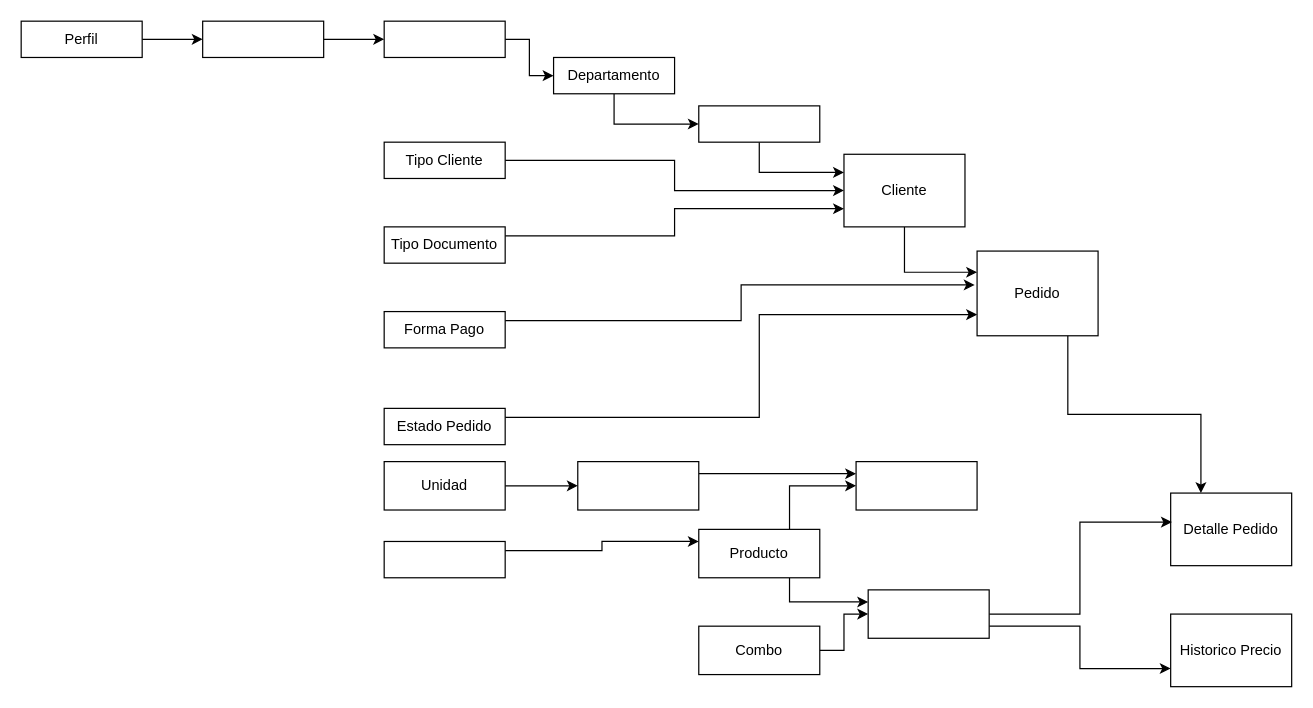
This 1313x708 diagram has some shape labels left out. The shapes that lost their labels are listed below. From the top down, each one's centre as x and y in pixels, then its label:
At (262,38): "Usuario".
At (444,38): "Pais".
At (759,123): "Ciudad".
At (638,485): "Insumo".
At (916,485): "Producto Insumo".
At (444,559): "Tipo Producto".
At (928,613): "Producto Combo".
